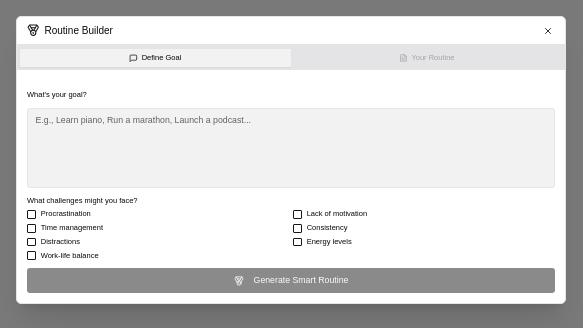
Test: RoutineBuilder › disables generate button when goal is empty
Expected: the button "Generate Smart Routine" is disabled, [27,268,555,293]
In the text box with placeholder "E.g., Learn piano, Run a marathon, Launch a podcast...": (291, 148) [27,108,555,188], type "Run a marathon"
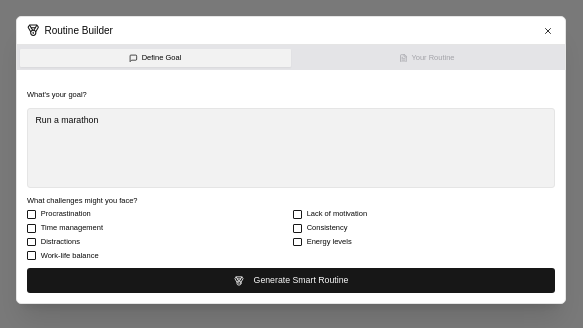
Now the button "Generate Smart Routine" is enabled, box [27,268,555,293]
